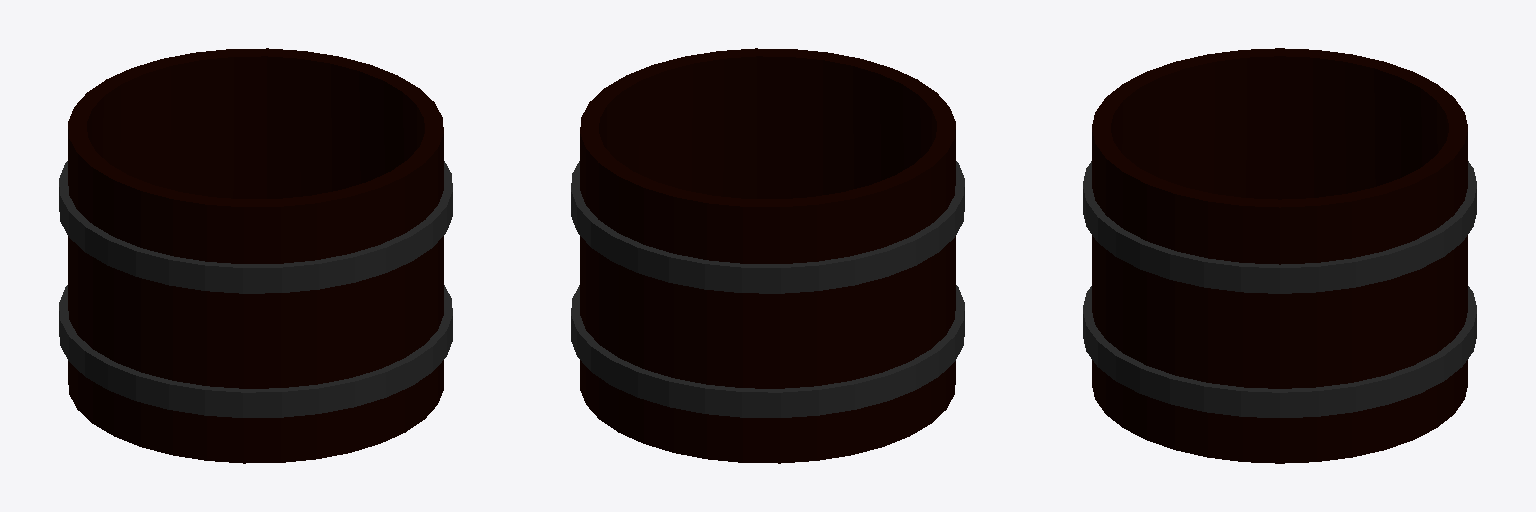
Rendered from tobbebruin.obj.
The picture shows the model from 3 angles: view 1: azimuth 30°, elevation 25°; view 2: azimuth 150°, elevation 25°; view 3: azimuth 270°, elevation 25°; orthographic projection.
Parts seen in each view (by area): view 1: Cylinder_Cylinder.002, Cylinder.002_Cylinder.001, Cylinder.001_Cylinder; view 2: Cylinder_Cylinder.002, Cylinder.002_Cylinder.001, Cylinder.001_Cylinder; view 3: Cylinder_Cylinder.002, Cylinder.002_Cylinder.001, Cylinder.001_Cylinder.
Boxes of the visible parts, x1,y1,x2,y2 form: Cylinder_Cylinder.002: [68, 48, 443, 463]; Cylinder.002_Cylinder.001: [59, 161, 452, 293]; Cylinder.001_Cylinder: [59, 285, 452, 417]; Cylinder_Cylinder.002: [580, 48, 955, 463]; Cylinder.002_Cylinder.001: [571, 161, 964, 293]; Cylinder.001_Cylinder: [571, 285, 964, 417]; Cylinder_Cylinder.002: [1092, 48, 1467, 463]; Cylinder.002_Cylinder.001: [1083, 161, 1476, 293]; Cylinder.001_Cylinder: [1083, 286, 1476, 417].
Bounding box in the file's own units: 2.1 × 1.5 × 2.1.